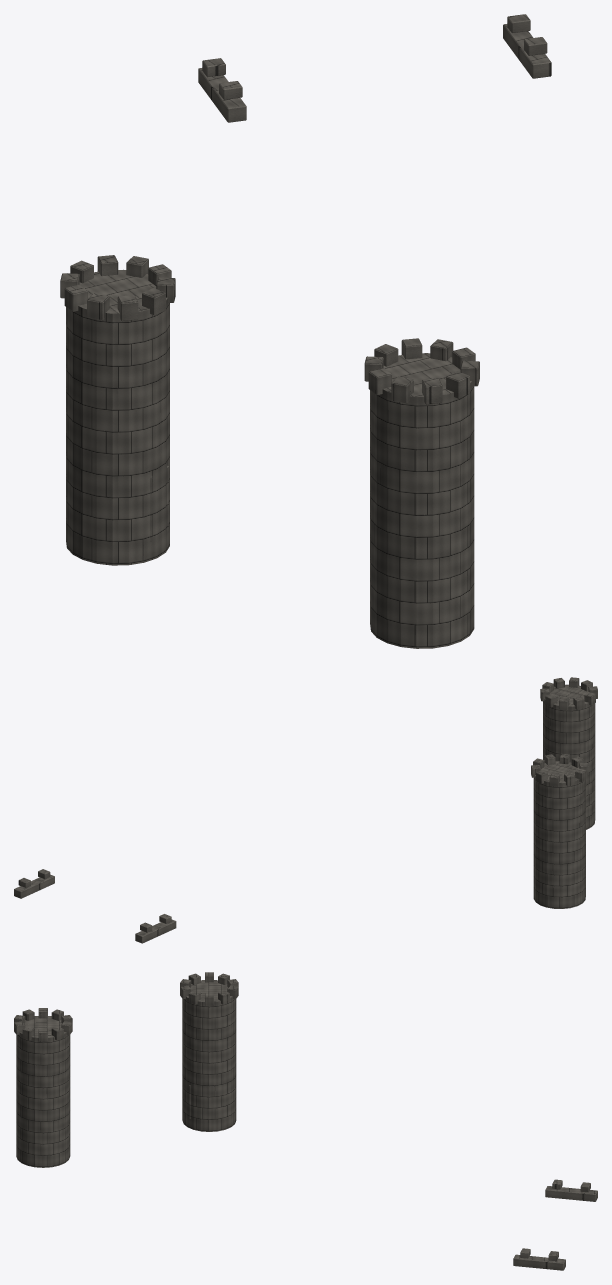
The model's file is Sector5_CitadelStone_1.fbx.
3 renders of one model, top to bottom at view 1: azimuth 30°, elevation 25°; view 2: azimuth 150°, elevation 25°; view 3: azimuth 270°, elevation 25°, orthographic. The views are drawn at different scales.
Visible parts, largest first — view 1: Sector5_CitadelStone_1; view 2: Sector5_CitadelStone_1; view 3: Sector5_CitadelStone_1.
Boxes of the visible parts, <box> form: Sector5_CitadelStone_1: <box>60,14,551,648</box>; Sector5_CitadelStone_1: <box>14,677,597,943</box>; Sector5_CitadelStone_1: <box>14,972,597,1270</box>.
Size of the model in its own units: 22870 by 7250 by 28175.
1 material, 1 textured.
